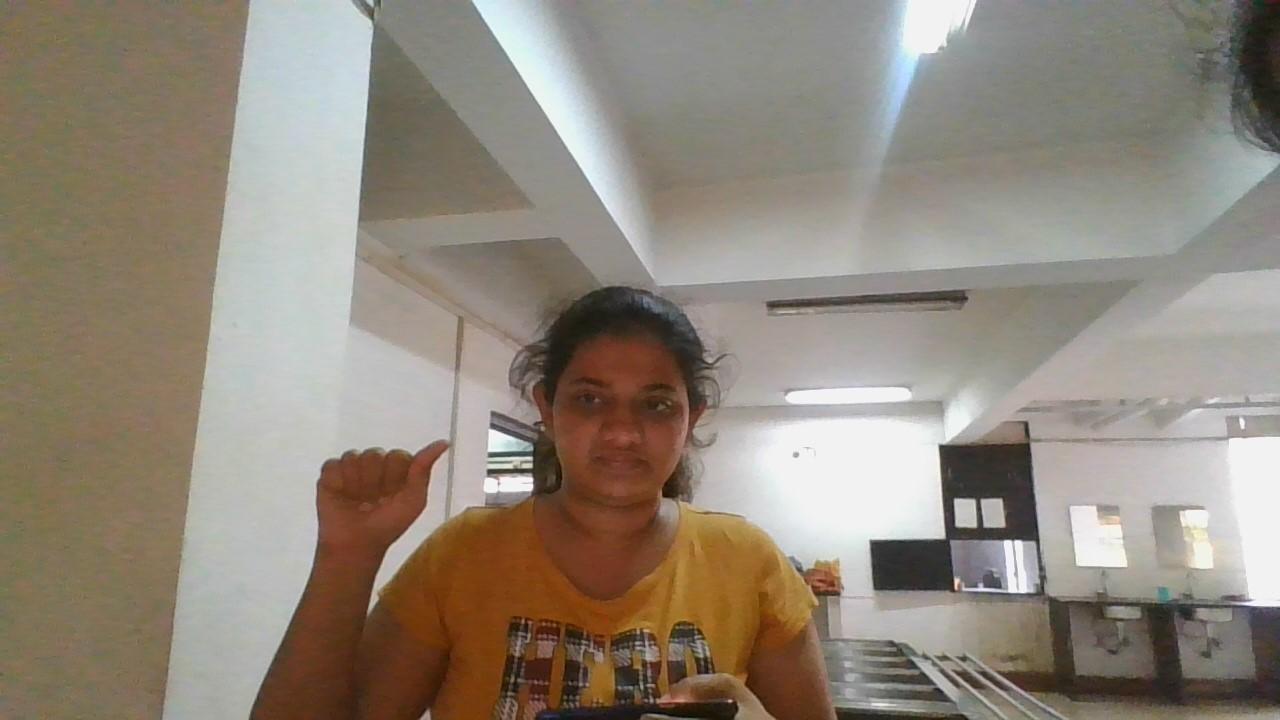a: (301, 426, 455, 559)
